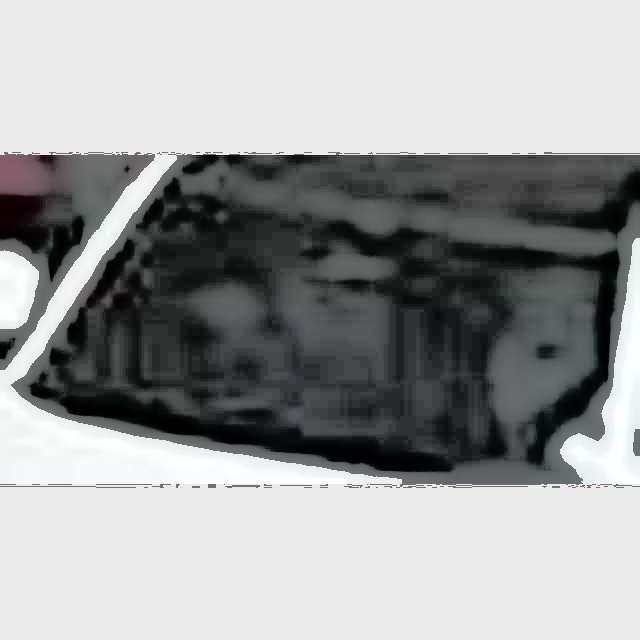pakai: (179, 240, 395, 390)
